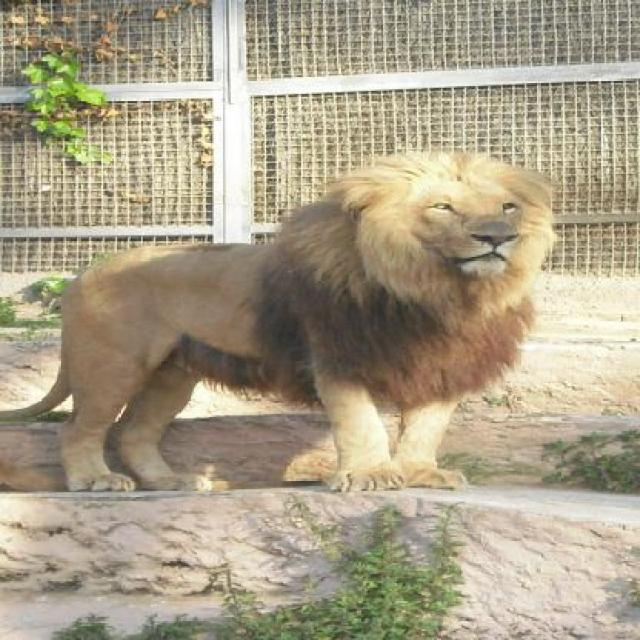Lion: (10, 137, 572, 505)
